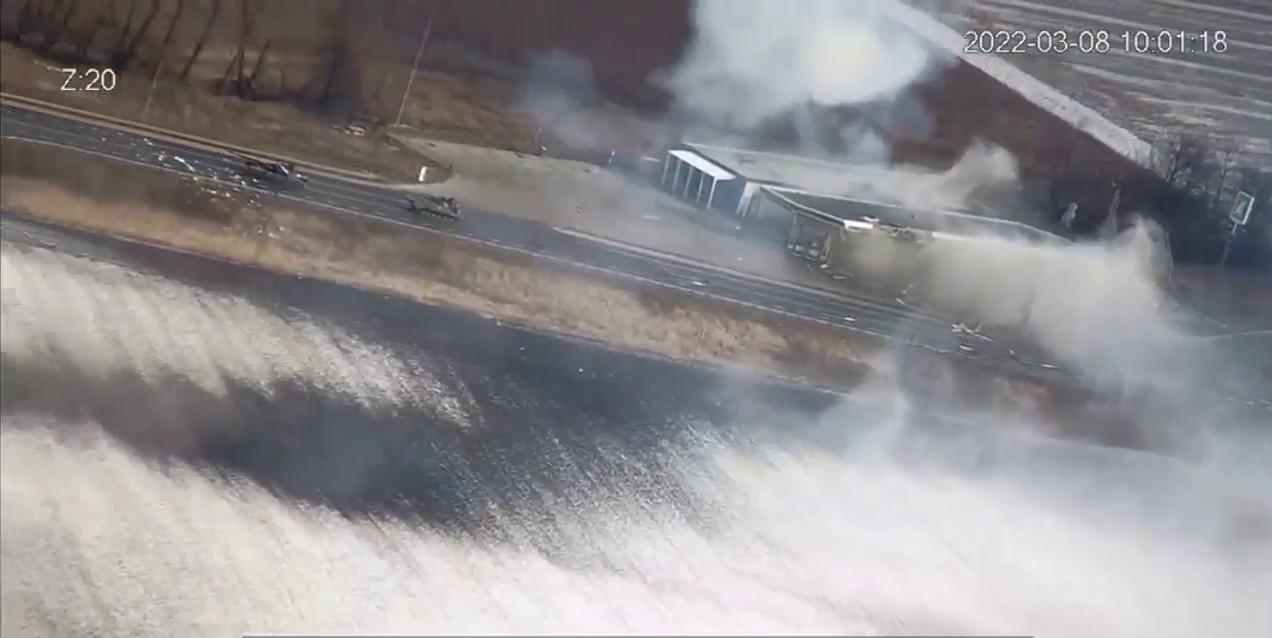tank: (226, 148, 308, 193), (406, 190, 470, 233), (538, 277, 538, 278)
